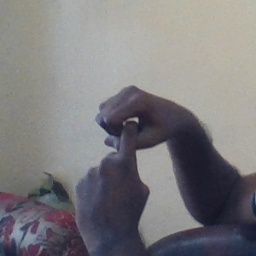Q: (72, 84, 173, 222)
